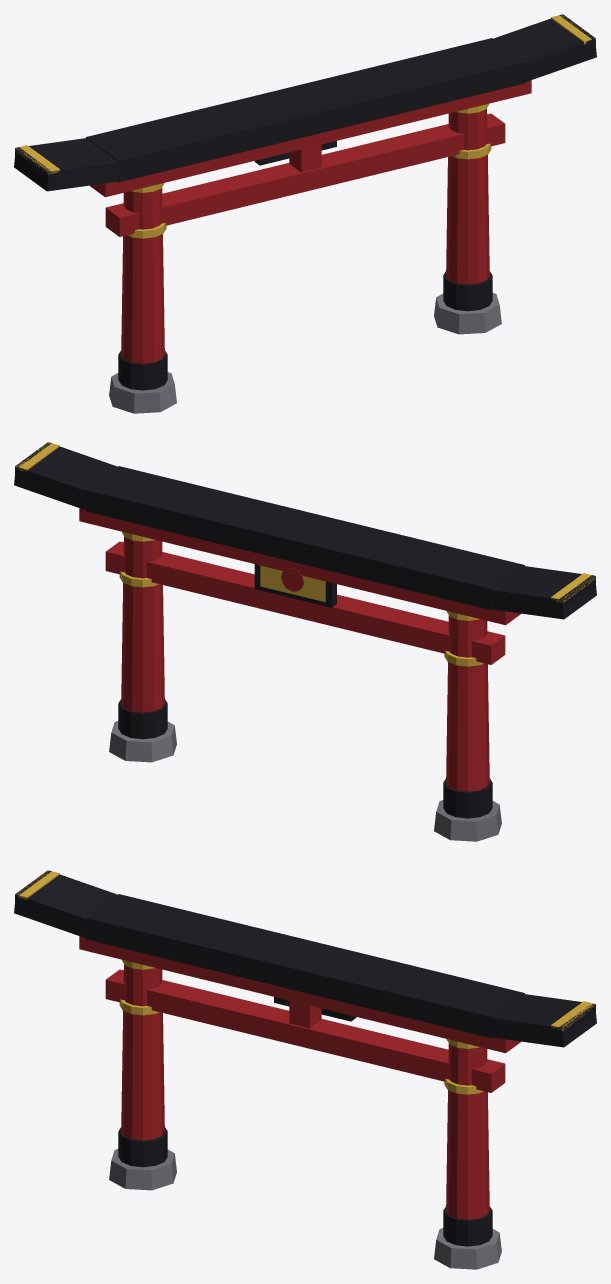
Rendered from Decor_NinjaDojo_Gate.fbx.
3 views of the same model, one above another, from view 1: azimuth 30°, elevation 25°; view 2: azimuth 150°, elevation 25°; view 3: azimuth 330°, elevation 25° (orthographic).
Parts seen in each view (by area): view 1: Gate_Body; view 2: Gate_Body; view 3: Gate_Body.
Part boxes in pixels (x1,y1,x2,y2): Gate_Body: [14, 14, 596, 413]; Gate_Body: [14, 442, 596, 841]; Gate_Body: [14, 870, 596, 1269].
Size of the model in its own units: 27 by 12.5 by 3.
